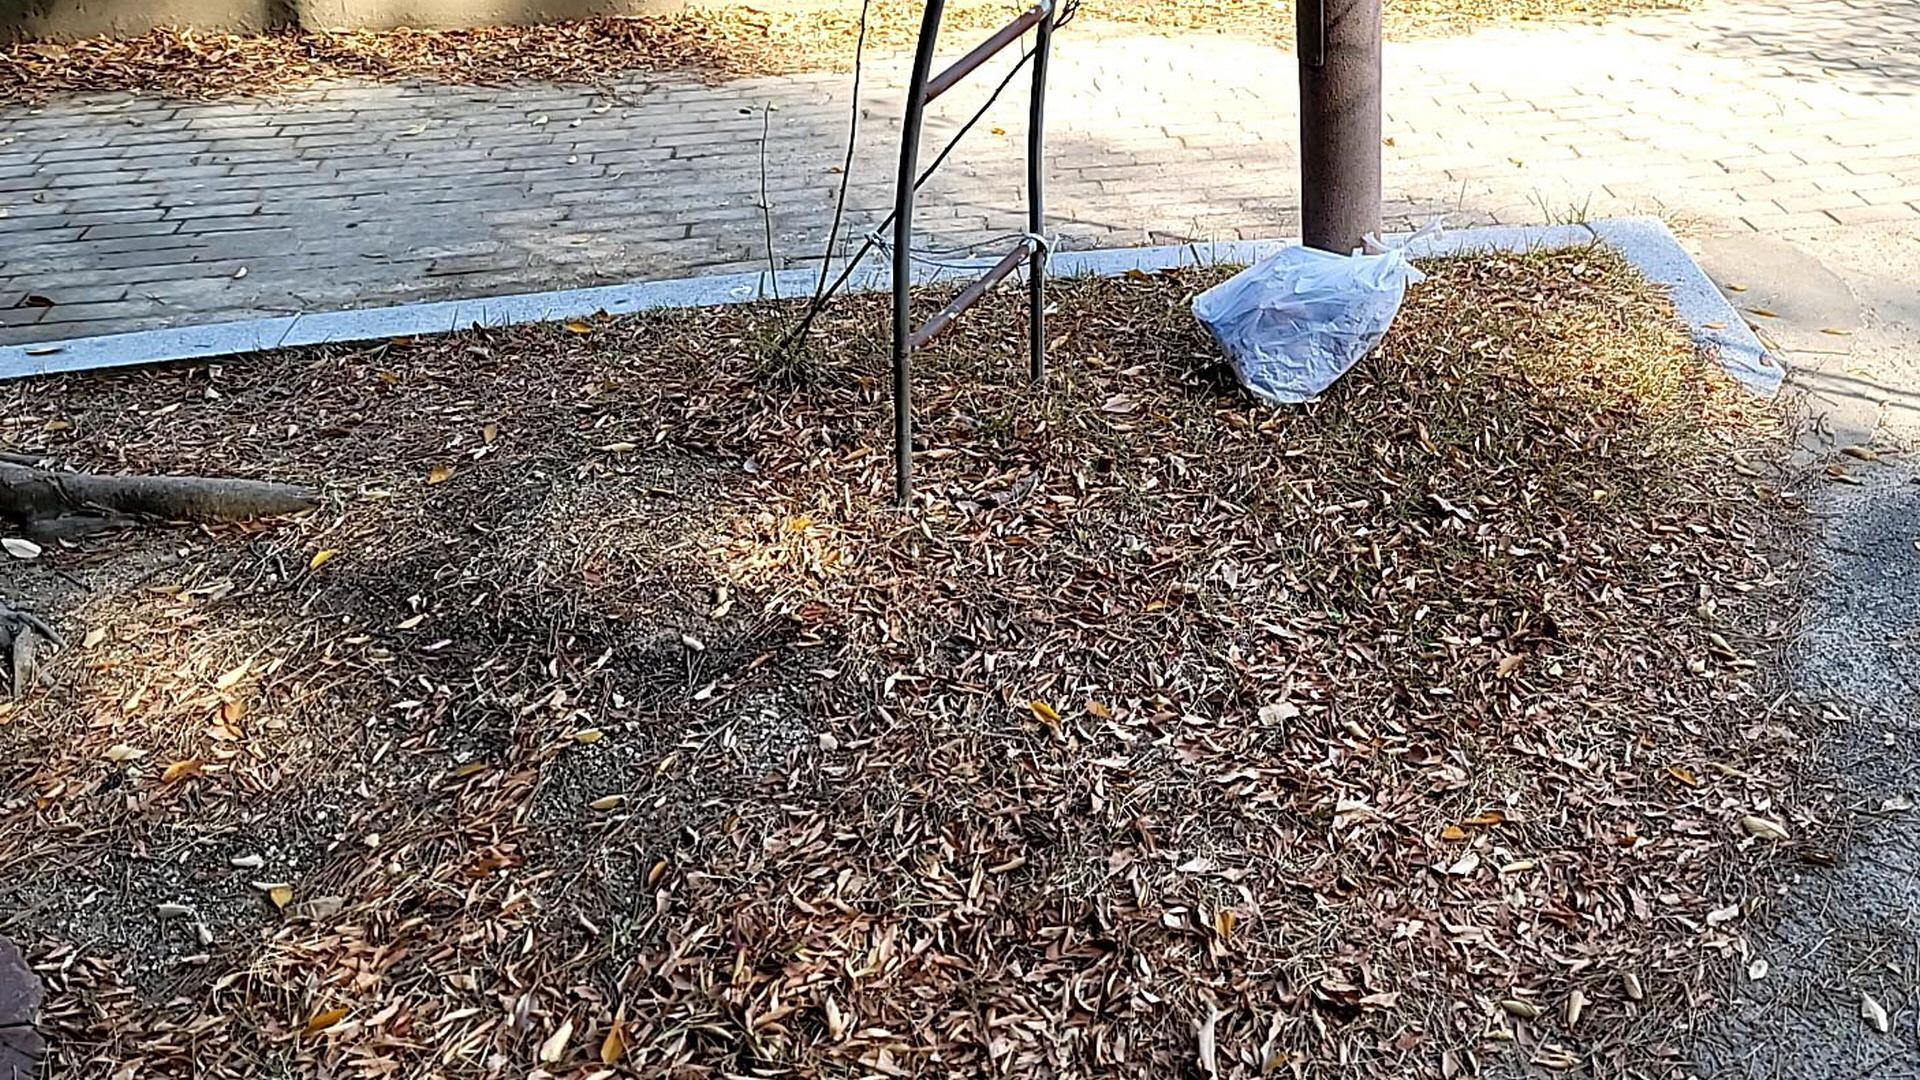white_bag: (1175, 225, 1432, 418)
